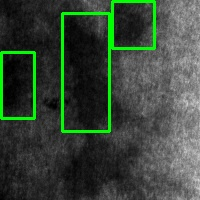patches: (62, 13, 109, 131), (1, 52, 34, 118), (112, 1, 154, 48)
